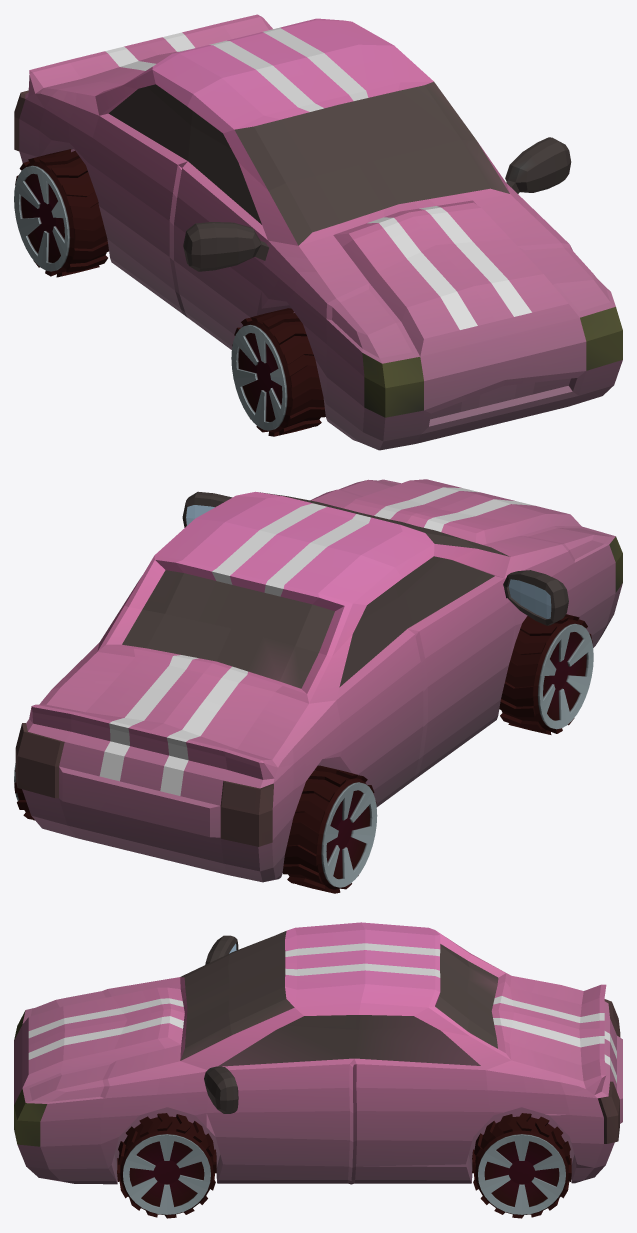
File: машинка 6.fbx
The picture shows the model from 3 angles, top to bottom: view 1: azimuth 30°, elevation 25°; view 2: azimuth 150°, elevation 25°; view 3: azimuth 270°, elevation 25°; orthographic projection. The views are drawn at different scales.
Parts seen in each view (by area): view 1: Car2.009, Cylinder.001, Cylinder, Zerk2.009; view 2: Car2.009, Cylinder.001, Cylinder, Zerk2.009; view 3: Car2.009, Cylinder.003, Cylinder.002, Zerk2.009.
Part boxes in pixels (x1=…): Car2.009: x1=14, y1=14, x2=622, y2=450; Cylinder.001: x1=14, y1=149, x2=108, y2=277; Cylinder: x1=231, y1=308, x2=325, y2=436; Zerk2.009: x1=183, y1=137, x2=571, y2=271; Car2.009: x1=15, y1=479, x2=622, y2=882; Cylinder.001: x1=282, y1=765, x2=377, y2=893; Cylinder: x1=499, y1=614, x2=593, y2=734; Zerk2.009: x1=182, y1=491, x2=568, y2=625; Car2.009: x1=14, y1=922, x2=622, y2=1184; Cylinder.003: x1=117, y1=1113, x2=216, y2=1218; Cylinder.002: x1=472, y1=1113, x2=571, y2=1218; Zerk2.009: x1=204, y1=935, x2=238, y2=1113.
Size of the model in its own units: 355 by 218 by 601.
